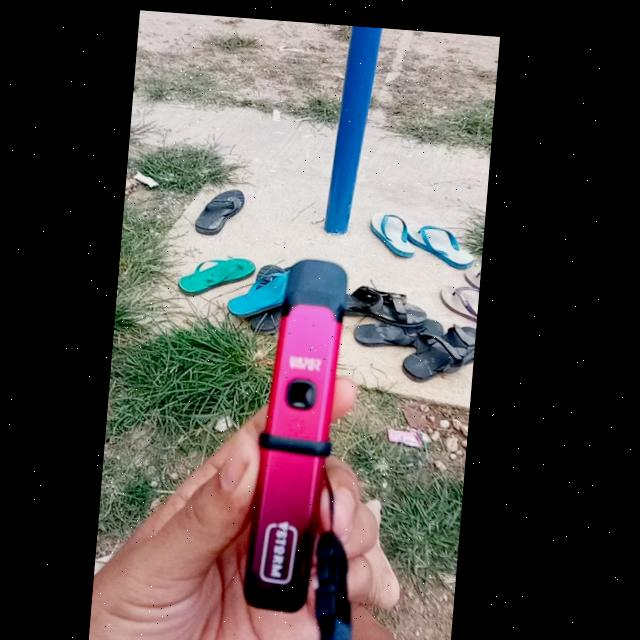vape: (248, 252, 355, 610)
